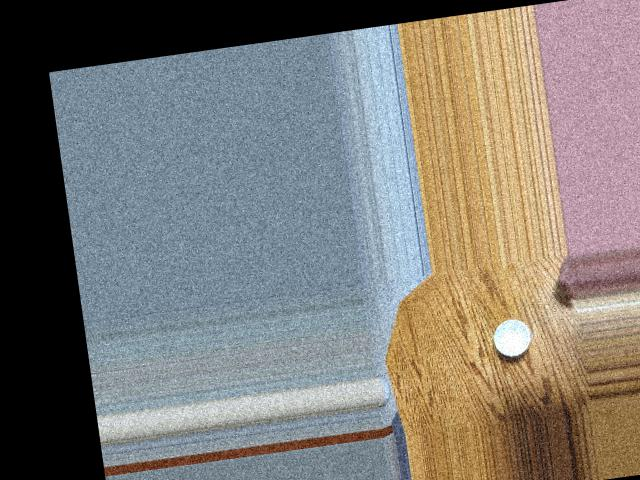cotage: (490, 312, 538, 357)
